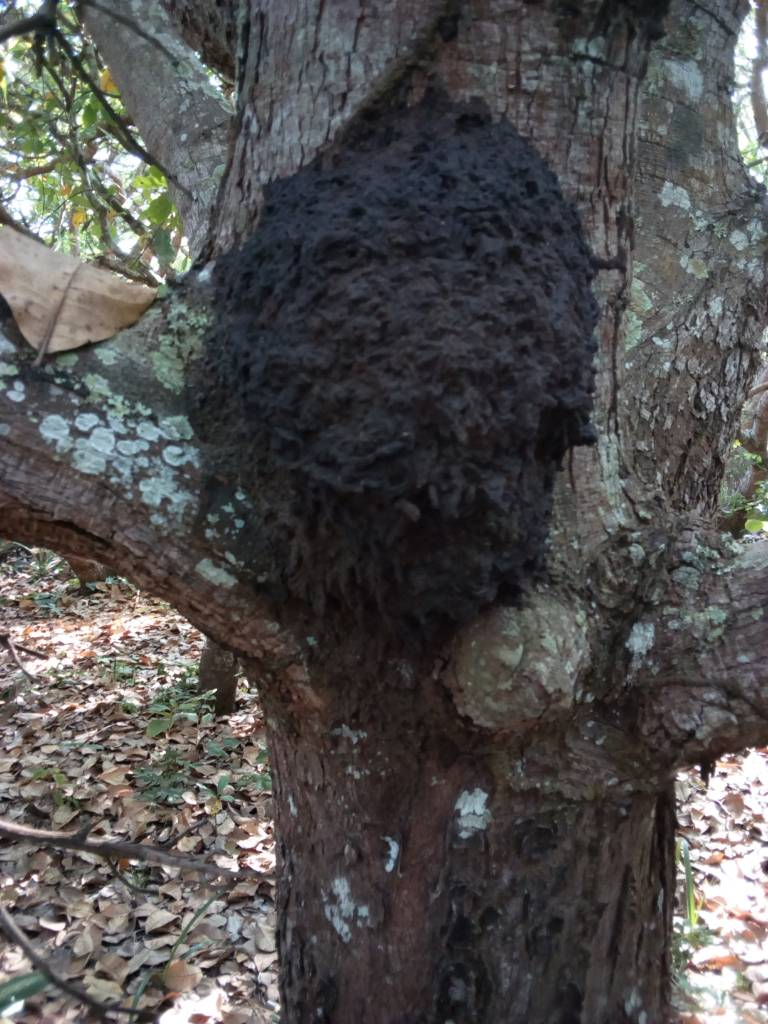Termites: (213, 119, 604, 646), (430, 778, 675, 1021), (274, 702, 415, 1024)
